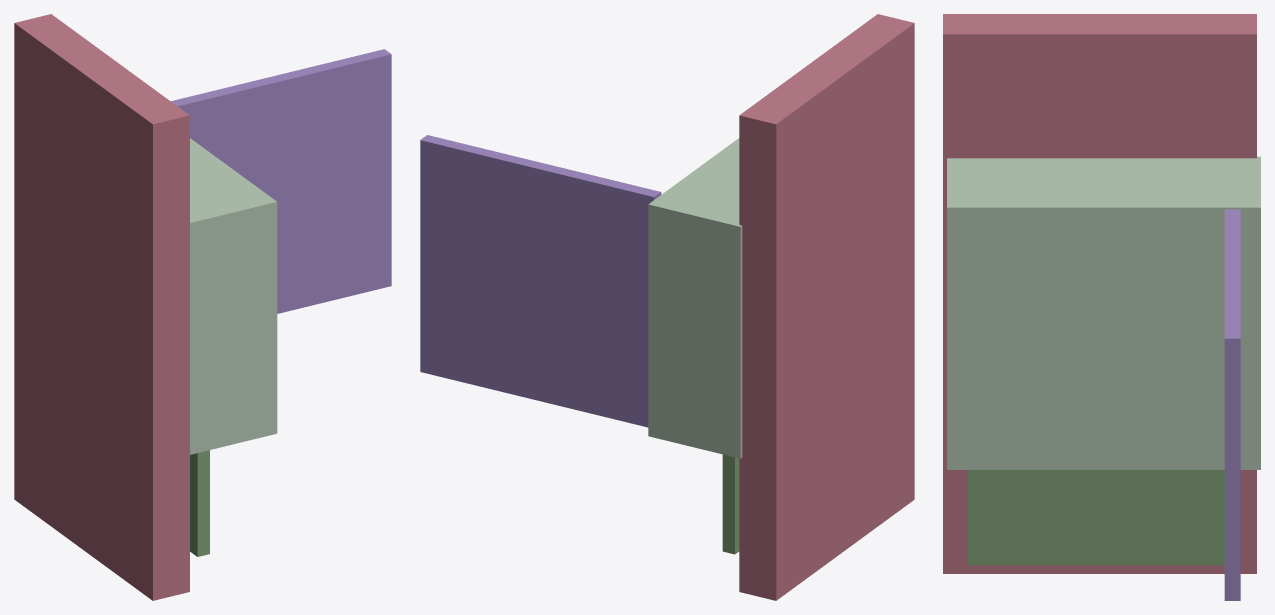
The picture shows the model from 3 angles, left to right: view 1: azimuth 30°, elevation 25°; view 2: azimuth 150°, elevation 25°; view 3: azimuth 270°, elevation 25°; orthographic projection. The views are drawn at different scales.
Visible parts, largest first — view 1: world; view 2: world; view 3: world.
Part boxes in pixels (x1,y1,x2,y2): world: (14,14,391,600); world: (420,14,914,600); world: (943,14,1260,600).
Size of the model in its own units: 5.9 by 7.4 by 3.95.
